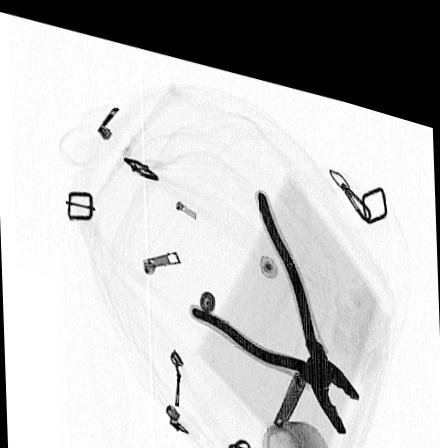Pliers: (187, 170, 359, 415)
